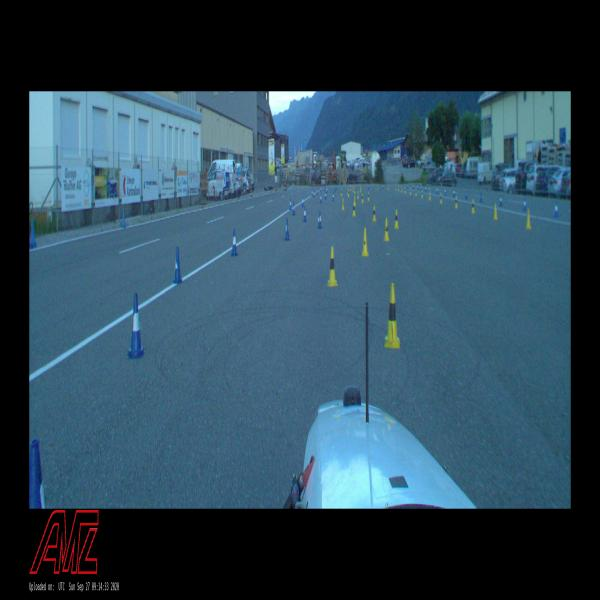blue_cone: (127, 294, 145, 360), (173, 246, 183, 284), (231, 229, 238, 256), (285, 218, 290, 240), (317, 211, 322, 229), (303, 206, 307, 222), (554, 202, 558, 217), (292, 202, 295, 215), (289, 198, 292, 210), (499, 194, 501, 205), (302, 197, 304, 206)
yellow_cone: (384, 284, 400, 348), (327, 246, 338, 286), (361, 228, 369, 256), (383, 218, 390, 240), (526, 209, 531, 229), (394, 210, 399, 228), (493, 204, 498, 219), (372, 206, 376, 221), (471, 200, 475, 213), (352, 201, 355, 216), (455, 196, 458, 208), (367, 191, 370, 201), (342, 198, 344, 211), (440, 193, 442, 204), (428, 191, 430, 200), (421, 190, 423, 198), (415, 188, 417, 196), (357, 191, 359, 198), (362, 194, 363, 203), (410, 188, 411, 195)
